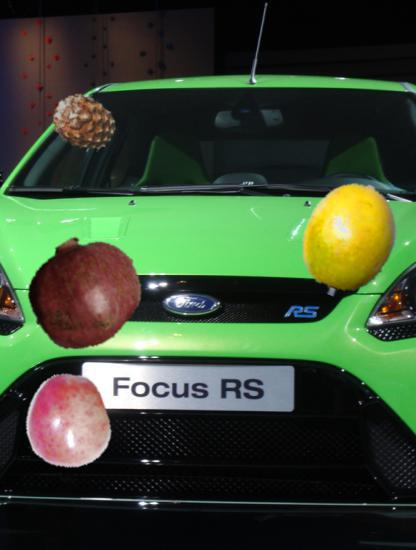Cherry: (17, 373, 115, 471)
Maracuja: (290, 181, 408, 299)
Pineapple: (51, 90, 117, 156)
Pomegranate: (28, 235, 143, 350)
